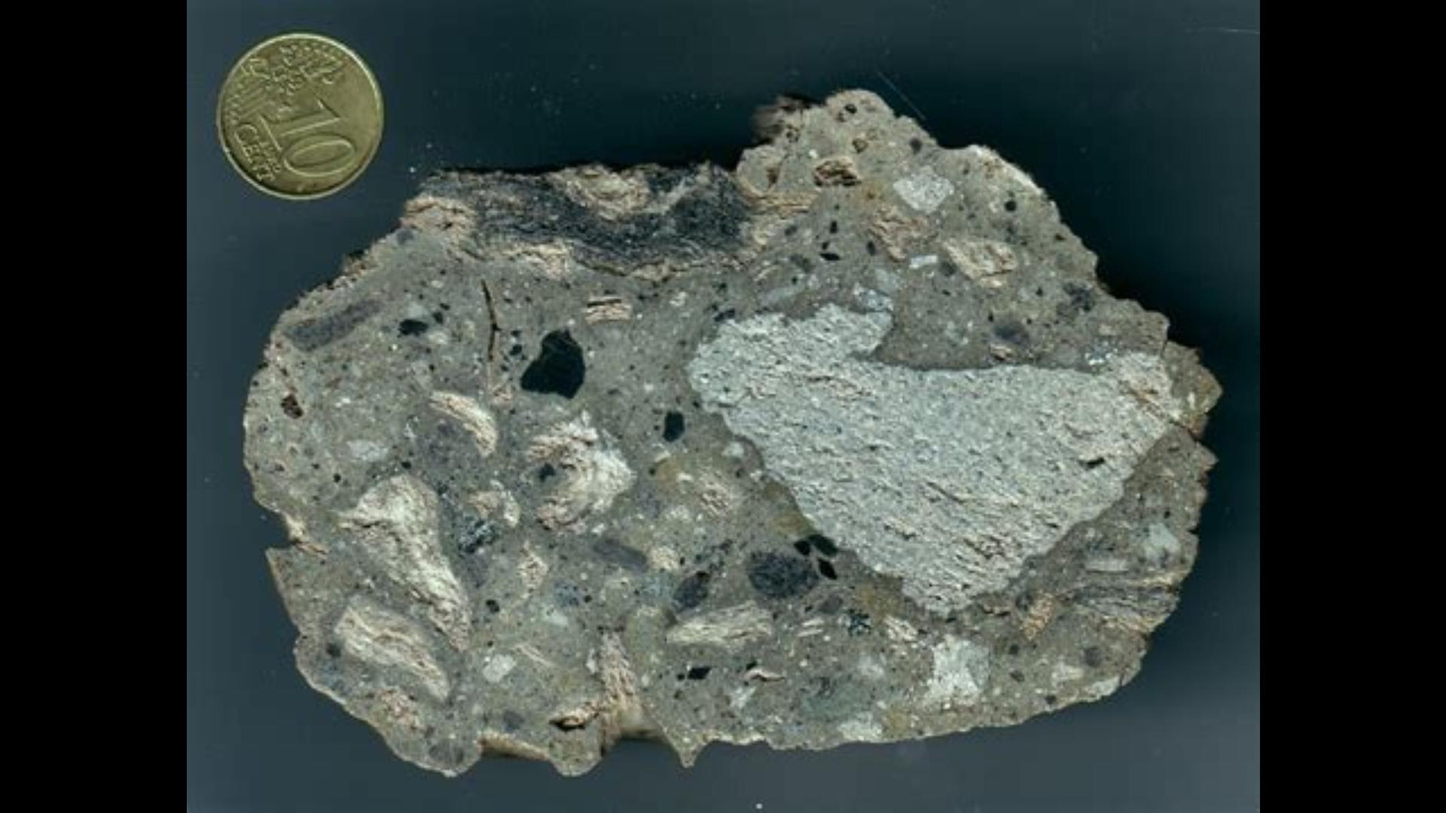rock: (243, 91, 1217, 772)
